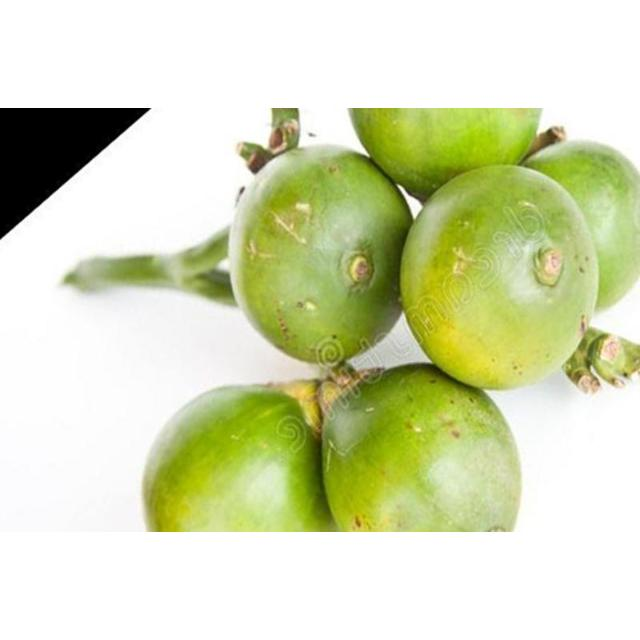good: (402, 167, 596, 389), (232, 148, 410, 368), (322, 366, 520, 530), (146, 384, 337, 532), (354, 110, 540, 196)
